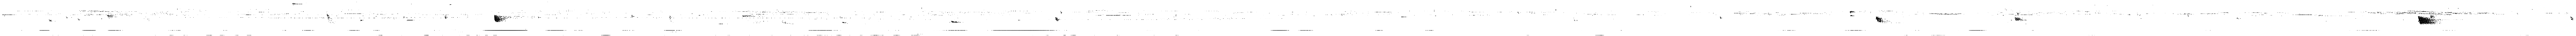meteor: (2418, 16, 2443, 25), (494, 15, 511, 21), (1876, 16, 1889, 23), (1055, 16, 1060, 21)
